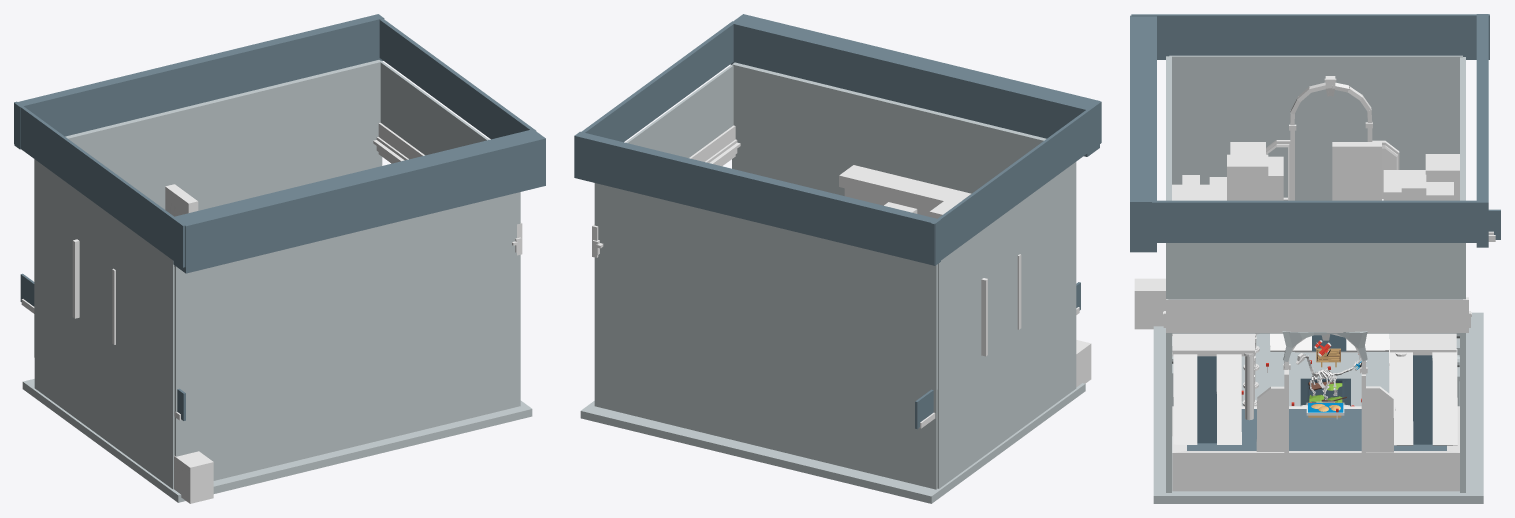
3 renders of one model, left to right at view 1: azimuth 30°, elevation 25°; view 2: azimuth 150°, elevation 25°; view 3: azimuth 270°, elevation 25°, orthographic. The views are drawn at different scales.
Visible parts, largest first — view 1: group853941034, group395243803, group156993652, group1953011220, group1925979723, group689543294, group558278867, group436196863, group793193501, group1582220023, group149663869, group1676229897 (+1 smaller); view 2: group156993652, group395243803, group853941034, group1925979723, group1953011220, group689543294, group558278867, group436196863, group793193501, group1152385336, group149663869, group1676229897 (+3 smaller); view 3: group395243803, group793193501, group1166085555, group558278867, group436196863, group689543294, group1676229897, group1319333405.001, group1953011220, group1319333405.002, group391671949, group1925979723 (+21 smaller).
Part boxes in pixels (left/top/right/bottom): group853941034: left=174, top=192, right=520, bottom=480; group395243803: left=34, top=159, right=174, bottom=489; group156993652: left=34, top=60, right=382, bottom=357; group1953011220: left=173, top=130, right=545, bottom=273; group1925979723: left=14, top=14, right=384, bottom=149; group689543294: left=14, top=101, right=185, bottom=267; group558278867: left=22, top=379, right=532, bottom=502; group436196863: left=379, top=18, right=535, bottom=139; group793193501: left=380, top=60, right=488, bottom=155; group1582220023: left=174, top=451, right=213, bottom=503; group149663869: left=72, top=239, right=115, bottom=344; group1676229897: left=378, top=122, right=522, bottom=255; group156993652: left=594, top=183, right=937, bottom=489; group395243803: left=937, top=162, right=1076, bottom=488; group853941034: left=732, top=62, right=1046, bottom=195; group1925979723: left=574, top=131, right=940, bottom=265; group1953011220: left=730, top=14, right=1099, bottom=156; group689543294: left=931, top=101, right=1101, bottom=265; group558278867: left=580, top=383, right=1085, bottom=503; group436196863: left=581, top=21, right=735, bottom=142; group793193501: left=626, top=65, right=733, bottom=157; group1152385336: left=839, top=165, right=971, bottom=209; group149663869: left=981, top=254, right=1021, bottom=356; group1676229897: left=592, top=125, right=735, bottom=257; group395243803: left=1169, top=55, right=1462, bottom=200; group793193501: left=1168, top=243, right=1462, bottom=333; group1166085555: left=1172, top=398, right=1459, bottom=491; group558278867: left=1153, top=312, right=1483, bottom=503; group436196863: left=1152, top=200, right=1476, bottom=242; group689543294: left=1131, top=14, right=1489, bottom=59; group1676229897: left=1166, top=297, right=1468, bottom=332; group1319333405.001: left=1173, top=354, right=1241, bottom=444; group1953011220: left=1130, top=15, right=1156, bottom=252; group1319333405.002: left=1389, top=349, right=1457, bottom=445; group391671949: left=1256, top=334, right=1393, bottom=455; group1925979723: left=1476, top=14, right=1488, bottom=247.
Size of the model in its own units: 9.58 by 7.19 by 7.96.
